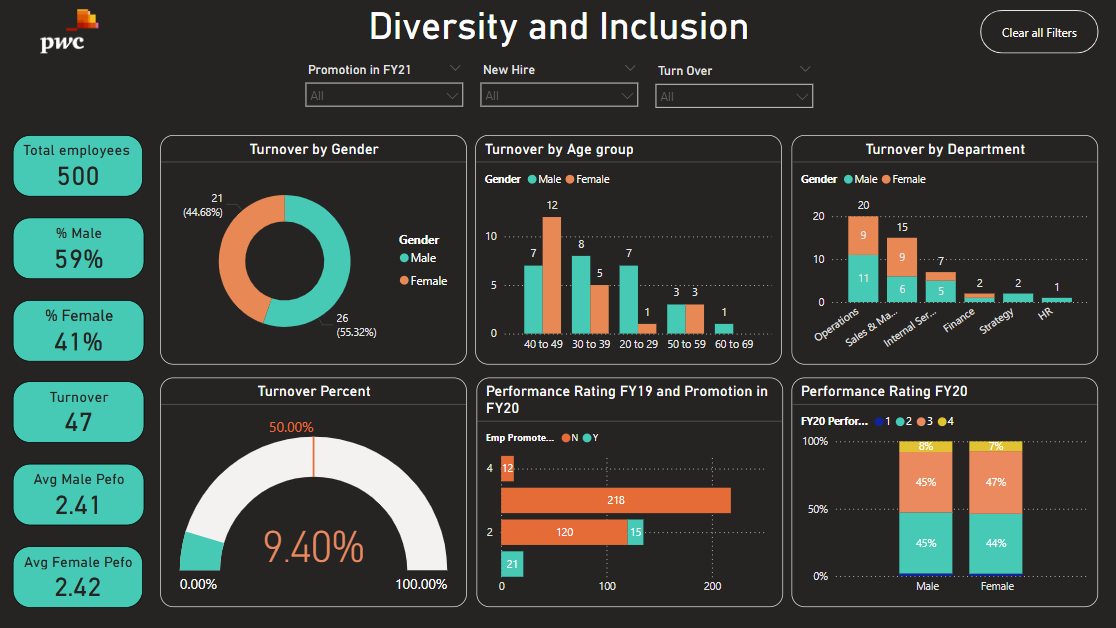

What the dashboard file says about the page in this screenshot:
{"tool":"powerbi","page":{"name":"Turnover & Performance","canvas":[1280,720],"ordinal":2},"visuals":[{"type":"image","box":[0,5,160,60.3],"z":0},{"type":"card","title":"Total employees","fields":{"Values":["Pharma Group AG.Total employees"]},"box":[15.5,154.9,148.5,70.2],"z":0,"group":"g4"},{"type":"donutChart","title":"Turnover by Gender","fields":{"Category":["Pharma Group AG.Gender"],"Y":["Pharma Group AG.#Leaver"]},"box":[183.6,154.9,350,262.2],"z":0,"group":"g3"},{"type":"group","id":"g1","title":"Group 3","box":[184.3,432.3,1072.1,262.2],"z":0,"group":"g5"},{"type":"group","id":"g2","title":"Group 1","box":[339.6,65.1,600.8,71.2],"z":1000},{"type":"group","id":"g3","title":"Group 4","box":[183.6,154.9,1072.1,262.2],"z":1000,"group":"g5"},{"type":"columnChart","title":"Turnover by Department ","fields":{"Category":["Pharma Group AG.Last Department in FY20"],"Y":["Pharma Group AG.#Leaver FY20"],"Series":["Pharma Group AG.Gender"]},"box":[905.7,154.9,350,262.2],"z":1000,"group":"g3"},{"type":"card","title":"Turnover","fields":{"Values":["Pharma Group AG.#Leaver FY20"]},"box":[15.5,436.6,150,70],"z":1000,"group":"g4"},{"type":"actionButton","box":[1120.8,12.1,135.1,49.5],"z":2000},{"type":"clusteredColumnChart","title":"Turnover by Age group","fields":{"Category":["Pharma Group AG.Age group"],"Y":["Pharma Group AG.#Leaver FY20"],"Series":["Pharma Group AG.Gender"]},"box":[543.6,154.9,350,262.2],"z":2000,"group":"g3"},{"type":"card","title":"% Male","fields":{"Values":["Pharma Group AG.% Male"]},"box":[15.5,249,150,70],"z":2000,"group":"g4"},{"type":"group","id":"g4","title":"Group 2","box":[15.5,154.9,150,539.6],"z":3000},{"type":"card","title":"% Female","fields":{"Values":["Pharma Group AG.% Female"]},"box":[15.5,342.8,150,70],"z":3000,"group":"g4"},{"type":"group","id":"g5","title":"Group 5","box":[183.6,154.9,1072.8,539.6],"z":4000},{"type":"gauge","title":"Turnover Percent","fields":{"Y":["Pharma Group AG.Turover %"],"MaxValue":["Pharma Group AG.Total employees"],"TargetValue":["Pharma Group AG.Min Turnover"]},"box":[184.3,432.3,350,262.2],"z":4000,"group":"g1"},{"type":"card","title":"Avg Male Pefo","fields":{"Values":["Avg(Pharma Group AG.FY20 Performance Rating)"]},"box":[15.5,530.4,150,70],"z":4000,"group":"g4"},{"type":"textbox","box":[0,0,1280,67.6],"z":5000},{"type":"barChart","title":"Performance Rating FY19 and Promotion in FY20","fields":{"Category":["Pharma Group AG.FY19 Performance Rating"],"Y":["CountNonNull(Pharma Group AG.Employee ID)"],"Series":["Pharma Group AG.Promotion in FY20?"]},"box":[545.3,432.3,350,262.2],"z":5000,"group":"g1"},{"type":"card","title":"Avg Female Pefo","fields":{"Values":["Avg(Pharma Group AG.FY20 Performance Rating)"]},"box":[15.5,624.2,148.5,70.2],"z":5000,"group":"g4"},{"type":"hundredPercentStackedColumnChart","title":"Performance Rating FY20","fields":{"Category":["Pharma Group AG.Gender"],"Series":["Pharma Group AG.FY20 Performance Rating"],"Y":["Sum(Pharma Group AG.FY20 Performance Rating)"]},"box":[906.4,432.3,350,262.2],"z":6000,"group":"g1"},{"type":"slicer","fields":{"Values":["Pharma Group AG.New hire FY20?"]},"box":[539.9,65.1,200.3,70],"z":10000,"group":"g2"},{"type":"slicer","fields":{"Values":["Pharma Group AG.FY20 leaver?"]},"box":[740.1,66.3,200.3,70],"z":11000,"group":"g2"},{"type":"slicer","fields":{"Values":["Pharma Group AG.Promotion in FY21?"]},"box":[339.6,65.1,200.3,63.9],"z":12000,"group":"g2"}]}

Visuals, with their boxes in screenshot pixels (x1, y1, x2, y2), scaled from the page's 1280x720 canvas onto the 1116x628 screenshot:
image: (0, 4, 140, 57)
"Total employees" card: (14, 135, 143, 196)
"Turnover by Gender" donutChart: (160, 135, 465, 364)
"Group 3" group: (161, 377, 1095, 606)
"Group 1" group: (296, 57, 820, 119)
"Group 4" group: (160, 135, 1095, 364)
"Turnover by Department " columnChart: (790, 135, 1095, 364)
"Turnover" card: (14, 381, 144, 442)
actionButton: (977, 11, 1095, 54)
"Turnover by Age group" clusteredColumnChart: (474, 135, 779, 364)
"% Male" card: (14, 217, 144, 278)
"Group 2" group: (14, 135, 144, 606)
"% Female" card: (14, 299, 144, 360)
"Group 5" group: (160, 135, 1095, 606)
"Turnover Percent" gauge: (161, 377, 466, 606)
"Avg Male Pefo" card: (14, 463, 144, 524)
textbox: (0, 0, 1115, 59)
"Performance Rating FY19 and Promotion in FY20" barChart: (475, 377, 781, 606)
"Avg Female Pefo" card: (14, 544, 143, 606)
"Performance Rating FY20" hundredPercentStackedColumnChart: (790, 377, 1095, 606)
slicer - Pharma Group AG.New hire FY20?: (471, 57, 645, 118)
slicer - Pharma Group AG.FY20 leaver?: (645, 58, 820, 119)
slicer - Pharma Group AG.Promotion in FY21?: (296, 57, 471, 113)
